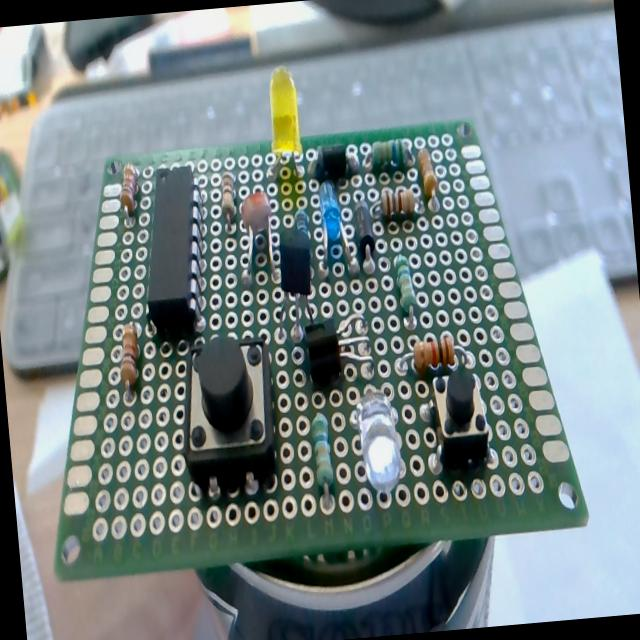IC: (128, 158, 222, 343)
cds: (238, 182, 278, 284)
diode: (303, 137, 367, 183), (350, 192, 380, 276)
led: (346, 380, 409, 516), (252, 61, 310, 181), (314, 180, 356, 282)
resistor: (302, 400, 344, 512), (111, 300, 146, 420), (388, 334, 484, 376), (388, 235, 426, 329), (414, 140, 449, 225), (358, 134, 417, 184), (366, 180, 420, 230), (116, 152, 148, 236), (216, 158, 240, 244)
switch: (175, 330, 288, 506), (430, 370, 507, 494)
transistor: (262, 228, 324, 341), (299, 306, 377, 378)
